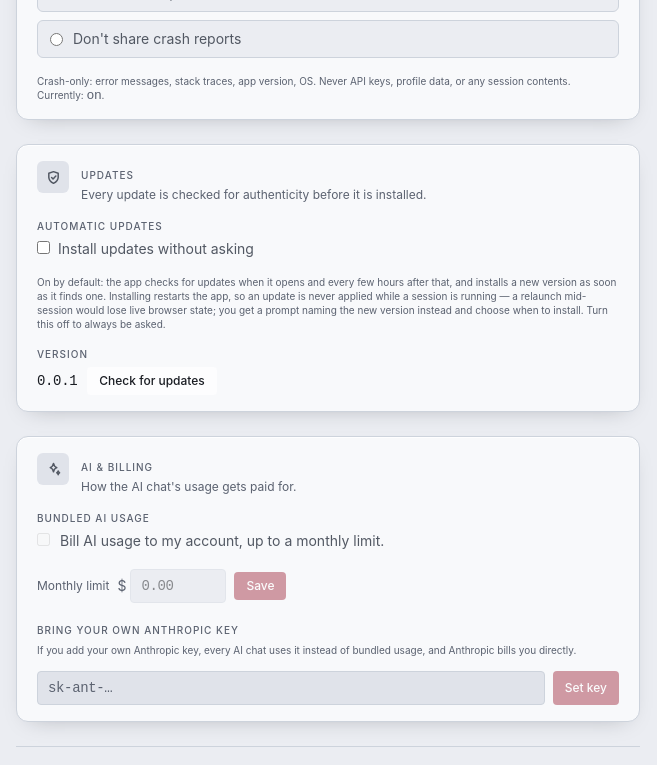
Test case: Settings offers to install the update it just found (N-8) › surfaces a failed install and offers a retry
This screenshot has width=657, height=765.
(page scrolled)
Click the button "Check for updates" at (152, 381), box [87,367,217,395]
(page scrolled)
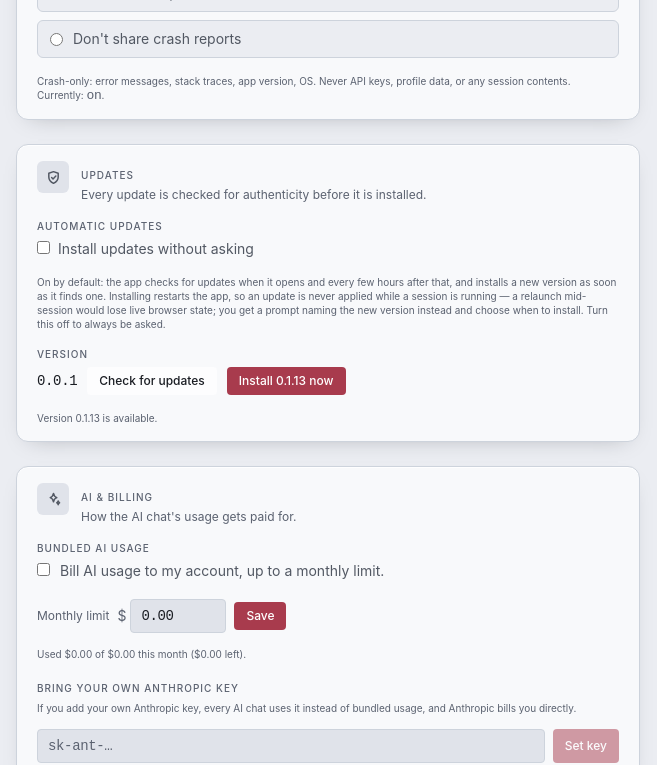
Now the button "Install 0.1.13 now" is shown
Click the button "Install 0.1.13 now" at (286, 381), box [227,367,346,395]
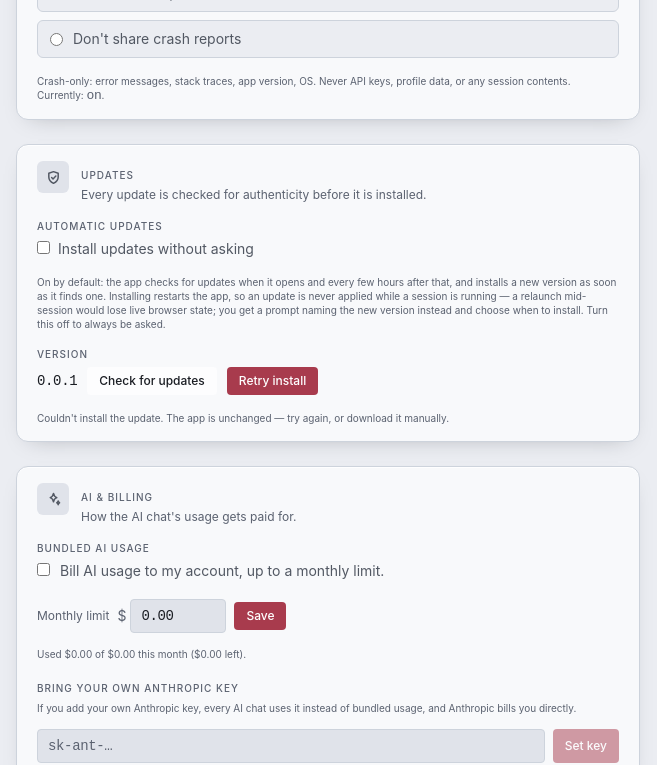
Now the message shows "Couldn't install", box [37,412,449,424]
Now the button "Retry install" is shown, box [227,367,318,395]
